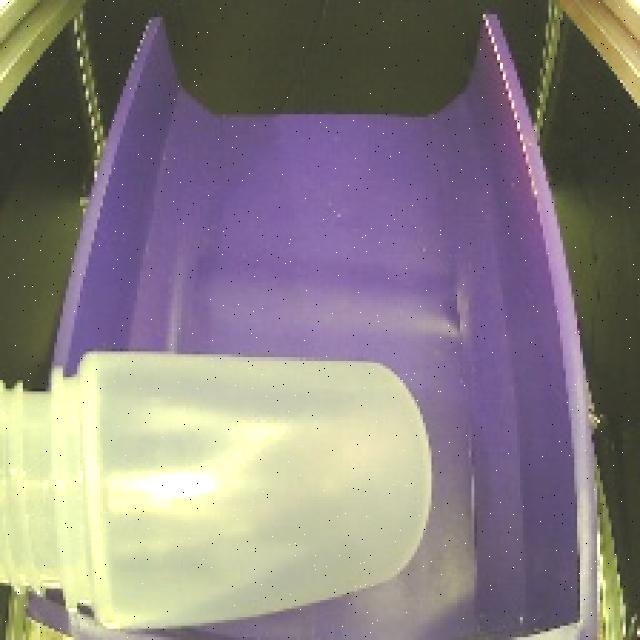plastic: (0, 332, 445, 640)
